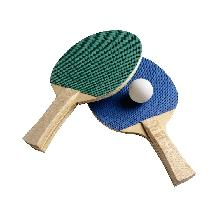WhiteBall: (128, 77, 153, 103)
